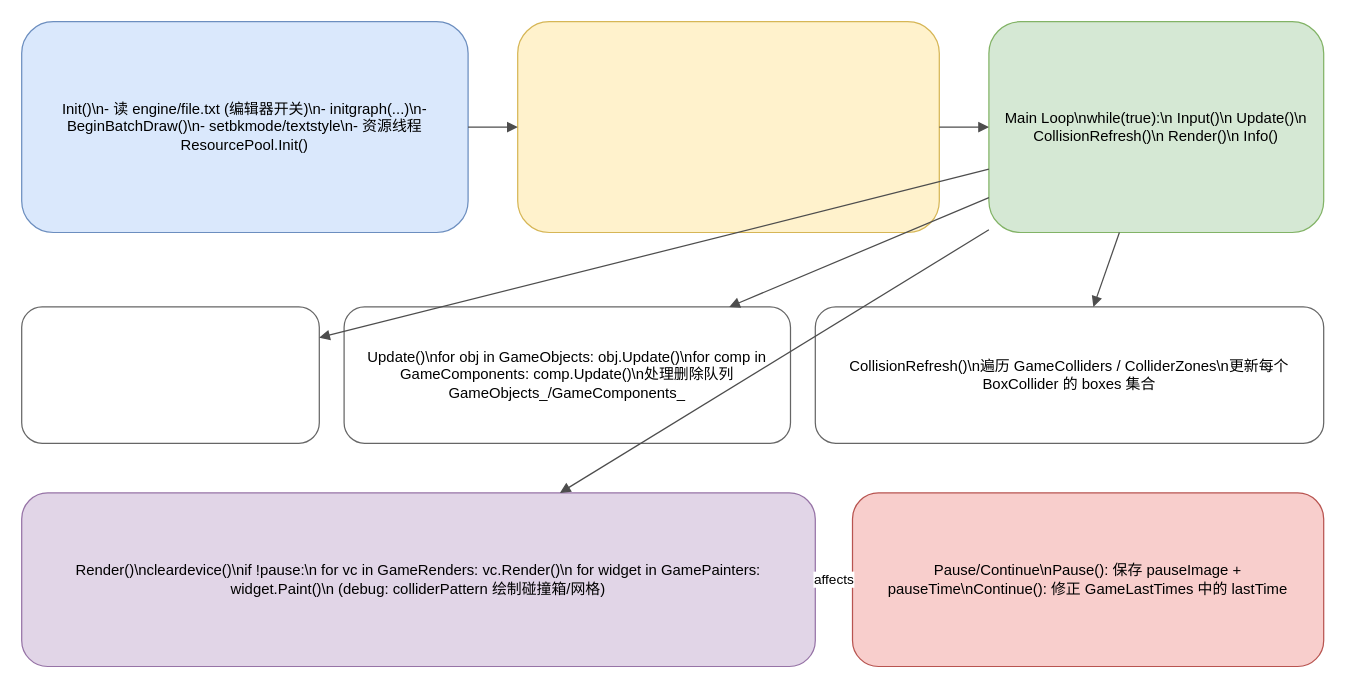
This 1345x688 diagram has some shape labels left out. The shapes that lost their labels are listed below. From the top down, each one's centre as x and y in pixels, then its label:
pixel 727 126: Start() (编辑器界面)\n- 背景/按钮图片 loadimage\n- 选择 collisionPattern/logPattern
pixel 169 374: Input()\nMainController.PeekInfo()\n(读取 ExMessage)
